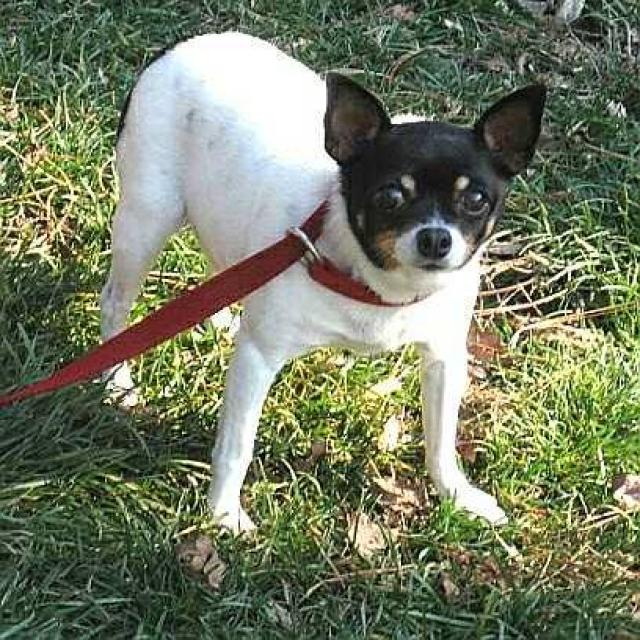Dog: (310, 57, 561, 289)
